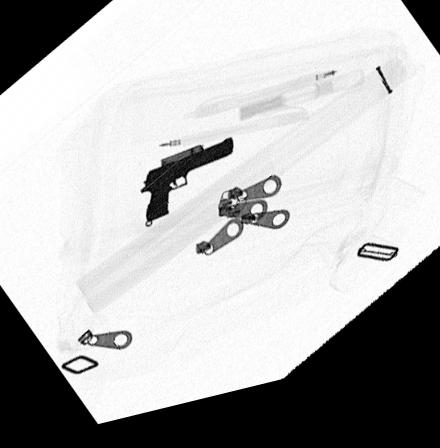Gun: (141, 146, 233, 229)
